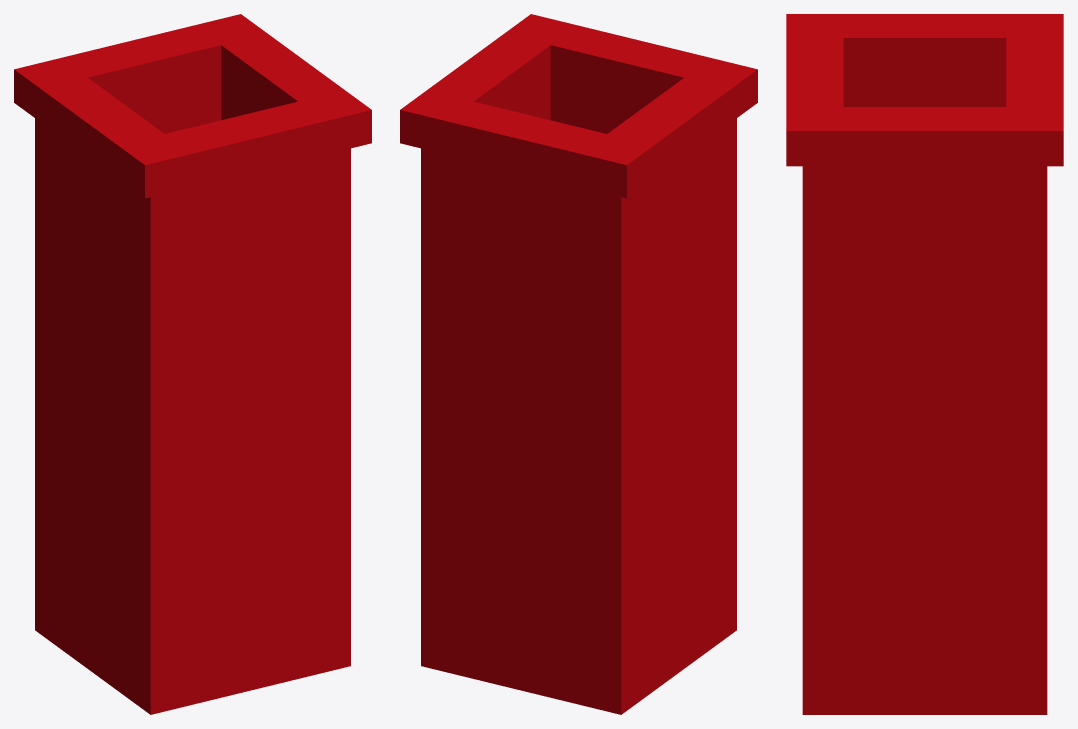
Rendered from SM_Farm_Chimney.fbx.
The picture shows the model from 3 angles, left to right: view 1: azimuth 30°, elevation 25°; view 2: azimuth 150°, elevation 25°; view 3: azimuth 270°, elevation 25°; orthographic projection. The views are drawn at different scales.
Visible parts, largest first — view 1: SM_Farm_Chimney; view 2: SM_Farm_Chimney; view 3: SM_Farm_Chimney.
Part boxes in pixels (x1=…): SM_Farm_Chimney: x1=14, y1=14, x2=371, y2=714; SM_Farm_Chimney: x1=400, y1=14, x2=757, y2=714; SM_Farm_Chimney: x1=786, y1=14, x2=1063, y2=714.
Bounding box in the file's own units: 170 × 400 × 170.
